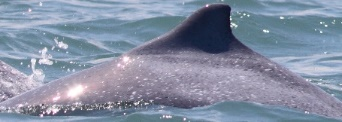fin: (19, 2, 336, 119)
